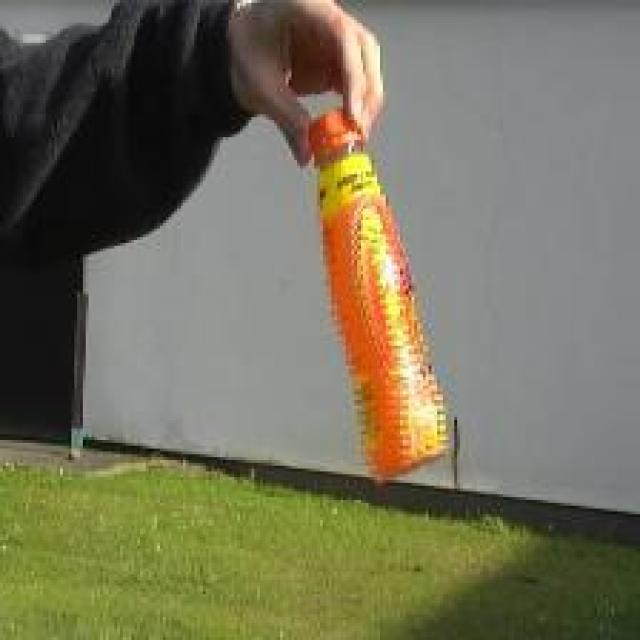other: (270, 105, 464, 487)
